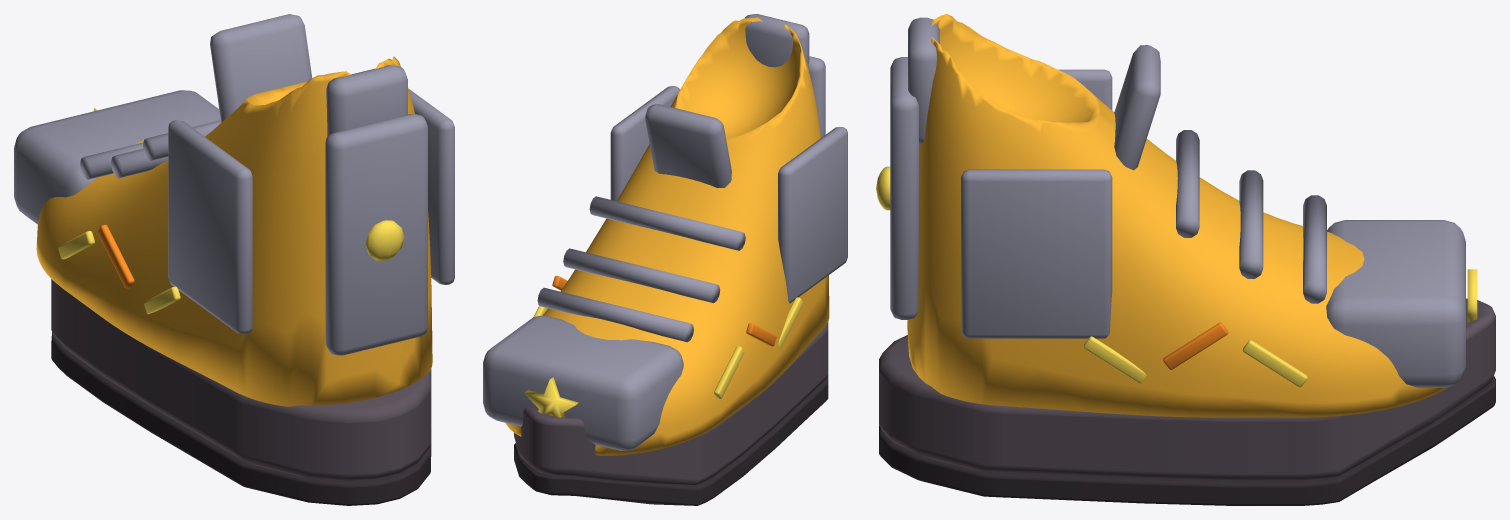
The model's file is shoe_starforge.fbx.
3 renders of one model, left to right at view 1: azimuth 30°, elevation 25°; view 2: azimuth 150°, elevation 25°; view 3: azimuth 270°, elevation 25°, orthographic. The views are drawn at different scales.
Visible parts, largest first — view 1: shoe_starforge; view 2: shoe_starforge; view 3: shoe_starforge.
Part boxes in pixels (left/top/right/bottom): shoe_starforge: left=14, top=14, right=454, bottom=505; shoe_starforge: left=483, top=14, right=847, bottom=505; shoe_starforge: left=876, top=14, right=1495, bottom=505.
Bounding box in the file's own units: 1.78 × 2.93 × 3.9.
Materials: 1 (1 with a texture image).
